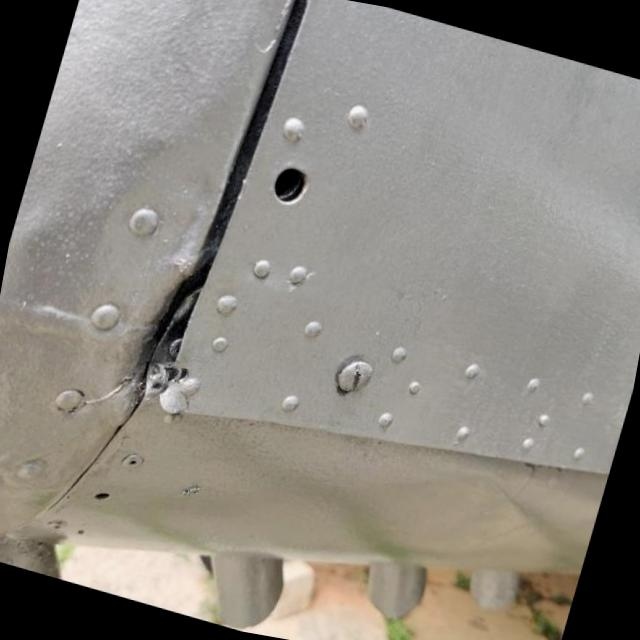Missing Fastener: (273, 164, 313, 207), (81, 472, 112, 510)
